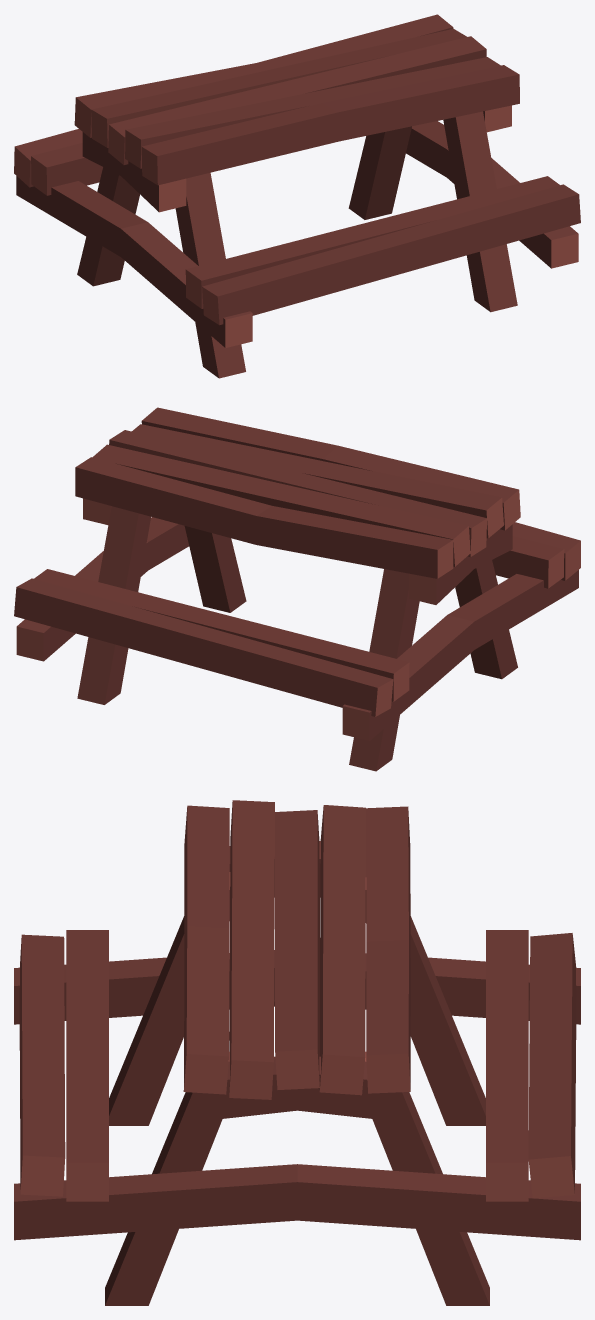
The model's file is Table_3_Red.fbx.
3 views of the same model, one above another, from view 1: azimuth 30°, elevation 25°; view 2: azimuth 150°, elevation 25°; view 3: azimuth 270°, elevation 25° (orthographic). The views are drawn at different scales.
Parts seen in each view (by area): view 1: Table_3_Red_Part_1, Table_3_Red_Part_2; view 2: Table_3_Red_Part_1, Table_3_Red_Part_2; view 3: Table_3_Red_Part_1, Table_3_Red_Part_2.
Boxes of the visible parts, bbox=[...] form: Table_3_Red_Part_1: bbox=[15, 14, 580, 378]; Table_3_Red_Part_2: bbox=[14, 97, 578, 347]; Table_3_Red_Part_1: bbox=[14, 407, 580, 771]; Table_3_Red_Part_2: bbox=[16, 490, 580, 740]; Table_3_Red_Part_1: bbox=[14, 800, 580, 1305]; Table_3_Red_Part_2: bbox=[20, 872, 574, 1201].
Size of the model in its own units: 241 by 134 by 240.
